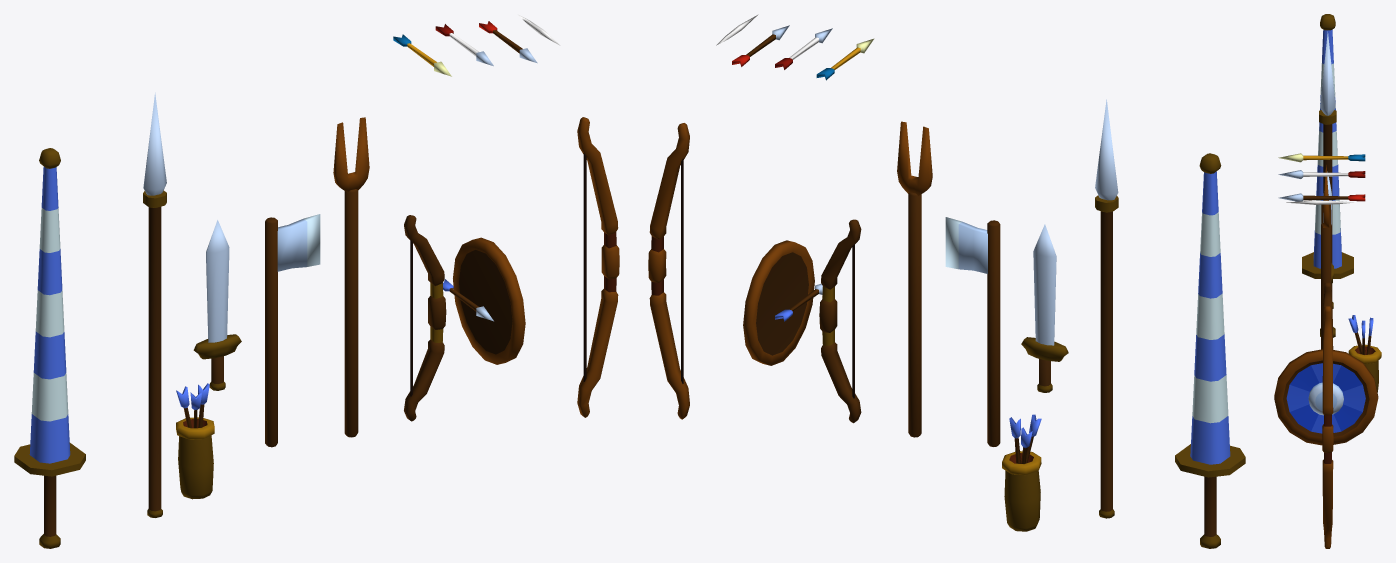
Rendered from Equipments.fbx.
The picture shows the model from 3 angles, left to right: view 1: azimuth 30°, elevation 25°; view 2: azimuth 150°, elevation 25°; view 3: azimuth 270°, elevation 25°; orthographic projection. The views are drawn at different scales.
Parts seen in each view (by area): view 1: KnightSpear, Shield, Spear, Longbow, PeasantFork, LumberAxe, Bow, Sword, Quiver; view 2: KnightSpear, Shield, Spear, Longbow, LumberAxe, PeasantFork, Bow, Sword, Quiver; view 3: Shield, KnightSpear, Longbow, Spear, PeasantFork, Quiver, Arrow_demonic, Arrow_Gold, Arrow_red, Bow, Dart, Sword.
Part boxes in pixels (<box>): KnightSpear: <box>14,148,85,548</box>; Shield: <box>453,237,525,364</box>; Spear: <box>143,92,166,517</box>; Longbow: <box>577,117,619,417</box>; PeasantFork: <box>333,117,369,437</box>; LumberAxe: <box>265,214,320,447</box>; Bow: <box>404,215,446,421</box>; Sword: <box>193,220,241,390</box>; Quiver: <box>176,383,214,499</box>; KnightSpear: <box>1175,153,1245,548</box>; Shield: <box>743,240,814,365</box>; Spear: <box>1095,99,1118,518</box>; Longbow: <box>648,123,689,419</box>; LumberAxe: <box>945,217,1000,446</box>; PeasantFork: <box>897,121,932,437</box>; Bow: <box>819,219,861,423</box>; Sword: <box>1021,224,1068,392</box>; Quiver: <box>1002,414,1041,531</box>; Shield: <box>1274,349,1378,445</box>; KnightSpear: <box>1302,14,1353,337</box>; Longbow: <box>1322,306,1333,548</box>; Spear: <box>1319,31,1336,263</box>; PeasantFork: <box>1321,165,1331,349</box>; Quiver: <box>1348,315,1381,392</box>; Arrow_demonic: <box>1278,170,1365,178</box>; Arrow_Gold: <box>1278,153,1365,162</box>; Arrow_red: <box>1278,193,1365,201</box>; Bow: <box>1322,282,1333,349</box>; Dart: <box>1286,200,1353,204</box>; Sword: <box>1323,171,1333,308</box>.
Size of the model in its own units: 2.44 by 1.7 by 0.4707.
